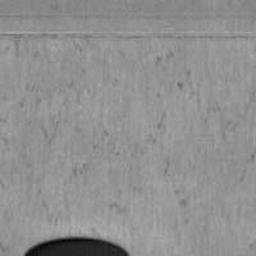Punching: (23, 237, 129, 256)
